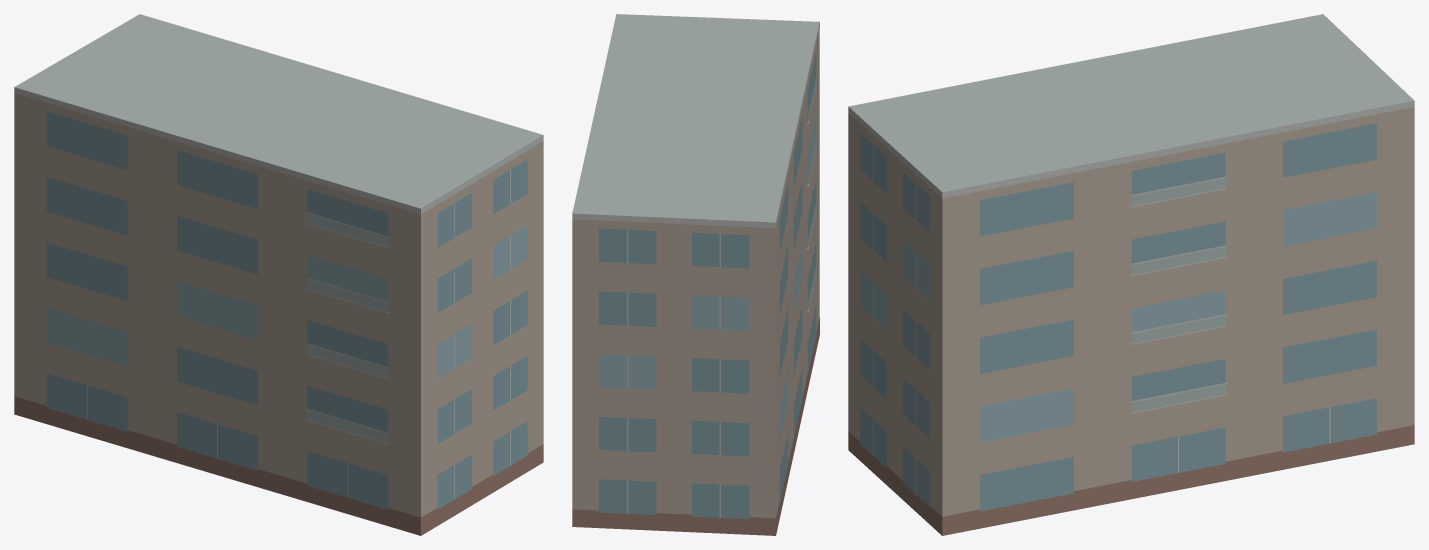
File: survey-upis-32894554.glb
3 renders of one model, left to right at view 1: azimuth 30°, elevation 25°; view 2: azimuth 150°, elevation 25°; view 3: azimuth 270°, elevation 25°, orthographic. The views are drawn at different scales.
Visible parts, largest first — view 1: survey-upis-32894554.tmp; view 2: survey-upis-32894554.tmp; view 3: survey-upis-32894554.tmp.
Boxes of the visible parts, left/top/right/bottom form: survey-upis-32894554.tmp: left=14, top=14, right=543, bottom=535; survey-upis-32894554.tmp: left=572, top=14, right=819, bottom=535; survey-upis-32894554.tmp: left=848, top=14, right=1414, bottom=535.
Size of the model in its own units: 14.81 by 13.3 by 19.88.
